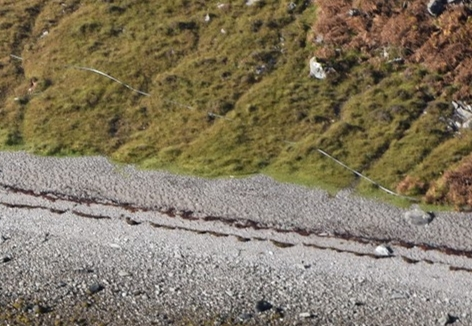tube: (8, 48, 230, 123), (8, 48, 152, 97), (76, 65, 150, 95), (363, 175, 423, 203), (317, 146, 362, 177), (173, 96, 228, 120)
white_in_green: (239, 283, 288, 325)
